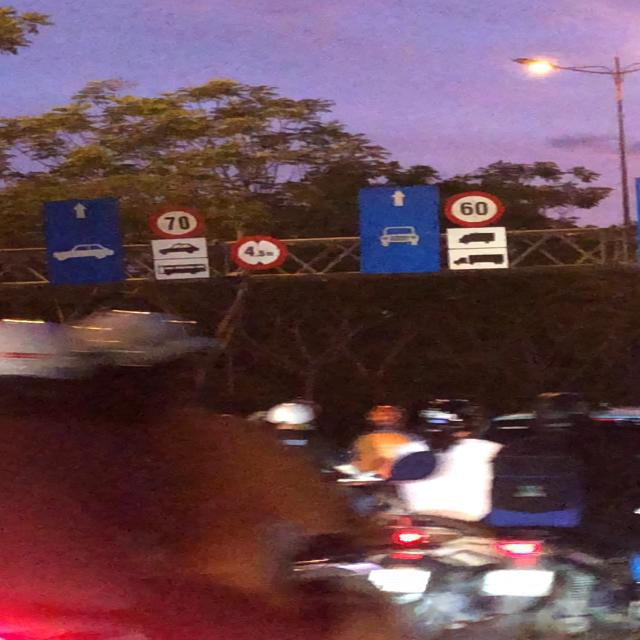Bien bao han che chieu cao: (226, 234, 292, 274)
Bien bao toc do toi da cho phep: (439, 188, 513, 228), (142, 205, 215, 241)
